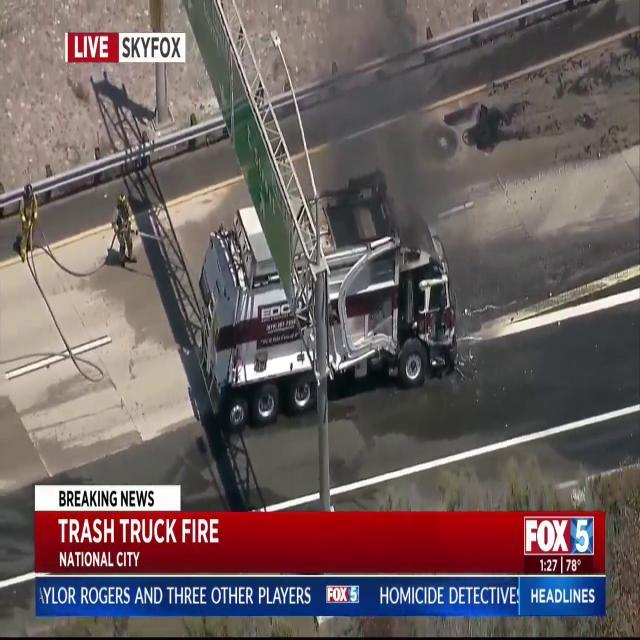Smoke: (318, 0, 454, 254)
